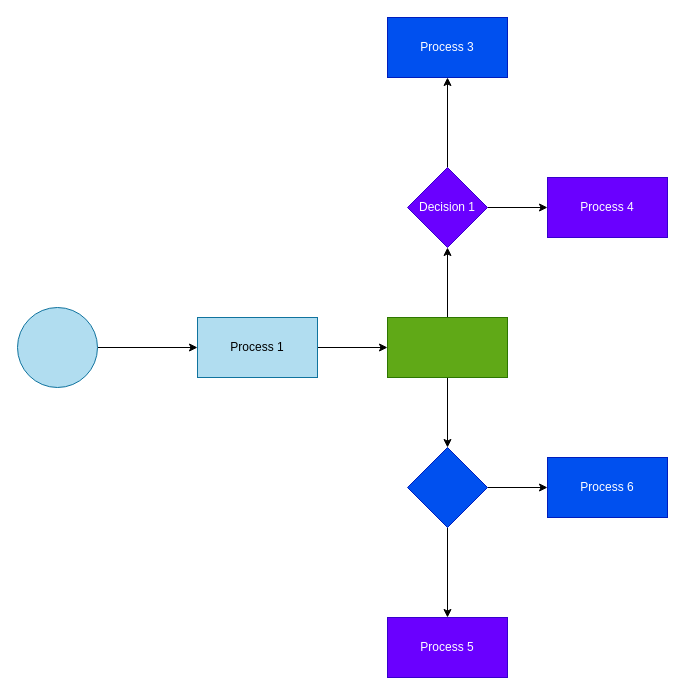
This 685x695 diagram has some shape labels left out. The shapes that lost their labels are listed below. From the top down, each one's centre as x and y in pixels, then its label:
At point (57, 347): "Initial State".
At point (447, 347): "Process 2".
At point (447, 487): "Decis ion 2".
